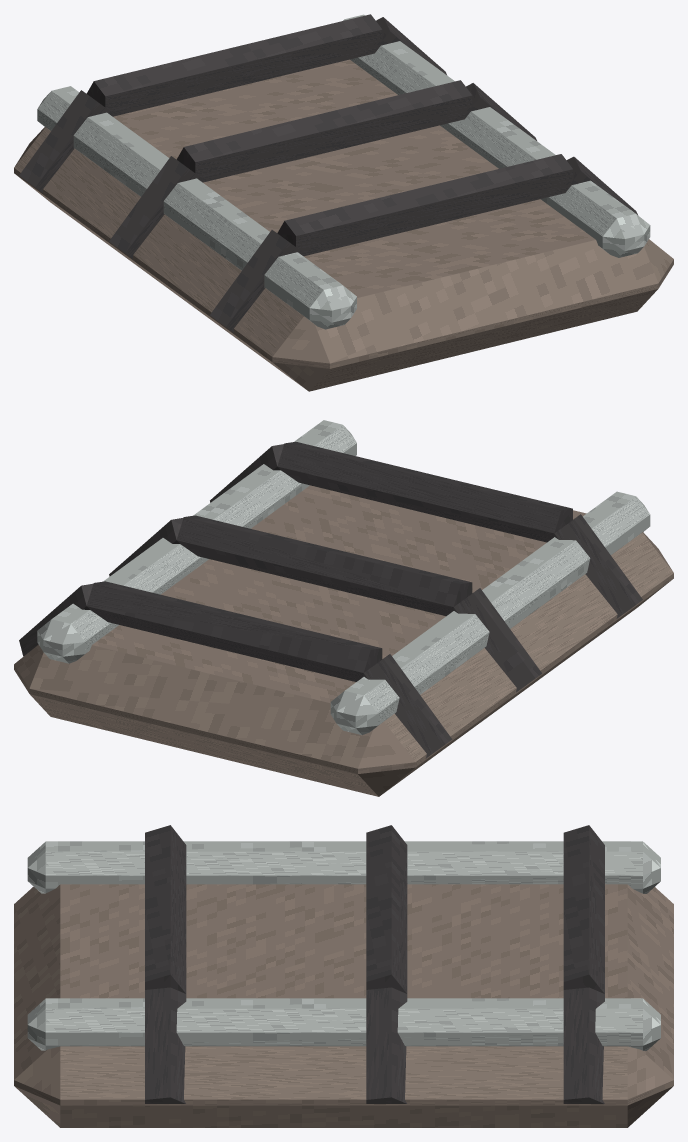
Rendered from leg_splint.glb.
The picture shows the model from 3 angles, top to bottom: view 1: azimuth 30°, elevation 25°; view 2: azimuth 150°, elevation 25°; view 3: azimuth 270°, elevation 25°; orthographic projection. The views are drawn at different scales.
Parts seen in each view (by area): view 1: block_contoured wrap, block_securing strap 1 (×3), block_rigid splint stay (×2), block_securing strap 0 (×3), block_securing strap 2 (×3); view 2: block_contoured wrap, block_securing strap 1 (×3), block_rigid splint stay (×2), block_securing strap 0 (×3), block_securing strap 2 (×3); view 3: block_contoured wrap, block_rigid splint stay (×2), block_securing strap 1 (×3), block_securing strap 2 (×3).
Part boxes in pixels (<box>): block_contoured wrap: <box>14,59,673,391</box>; block_securing strap 1 (×3): <box>86,14,572,256</box>; block_rigid splint stay (×2): <box>37,14,650,329</box>; block_securing strap 0 (×3): <box>19,90,302,332</box>; block_securing strap 2 (×3): <box>376,17,637,214</box>; block_contoured wrap: <box>14,485,673,796</box>; block_securing strap 1 (×3): <box>86,441,572,681</box>; block_rigid splint stay (×2): <box>37,420,650,735</box>; block_securing strap 0 (×3): <box>363,514,642,758</box>; block_securing strap 2 (×3): <box>19,444,283,656</box>; block_contoured wrap: <box>14,884,673,1127</box>; block_rigid splint stay (×2): <box>27,841,660,1050</box>; block_securing strap 1 (×3): <box>145,825,604,993</box>; block_securing strap 2 (×3): <box>145,987,604,1103</box>.
Size of the model in its own units: 0.217 by 0.0622 by 0.265.
1 material, 1 textured.
